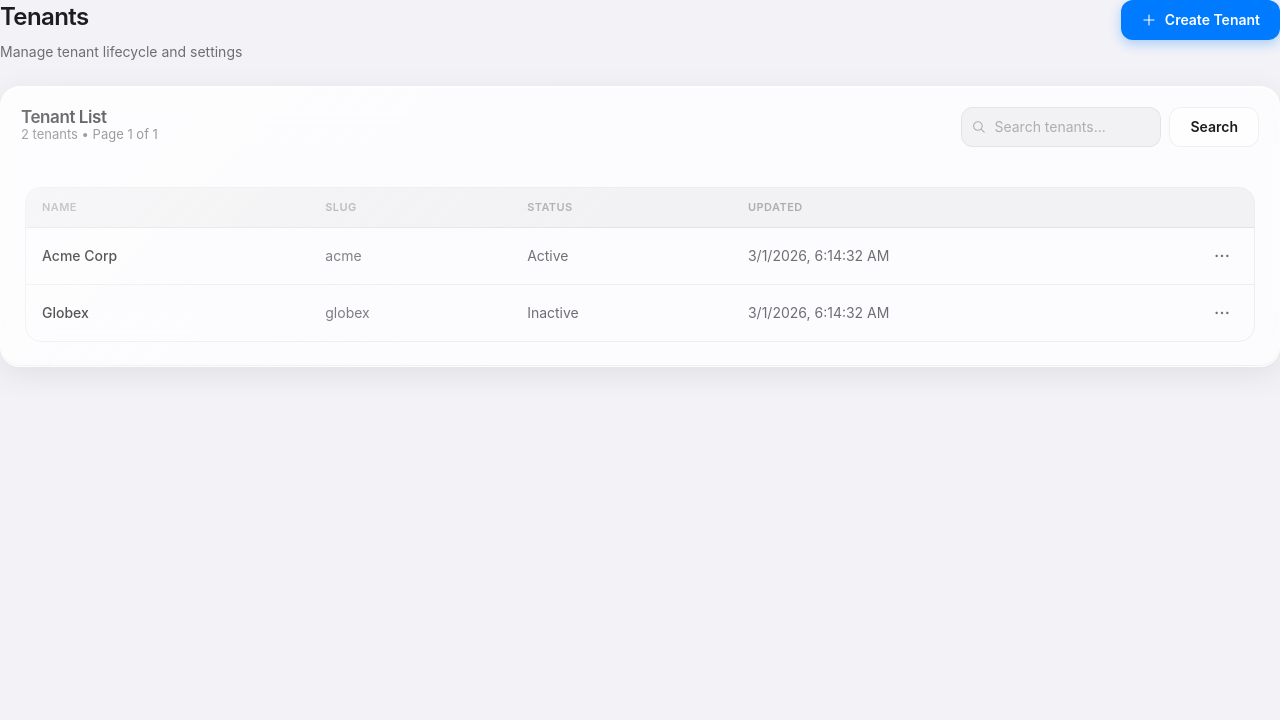
Test case: Tenants Page › opens delete confirmation dialog when clicking Delete in dropdown
The image size is (1280, 720).
// Open dropdown and click Delete
Click the button named "open menu" in the row of "Acme Corp": click(1222, 256) [1206,240,1238,272]
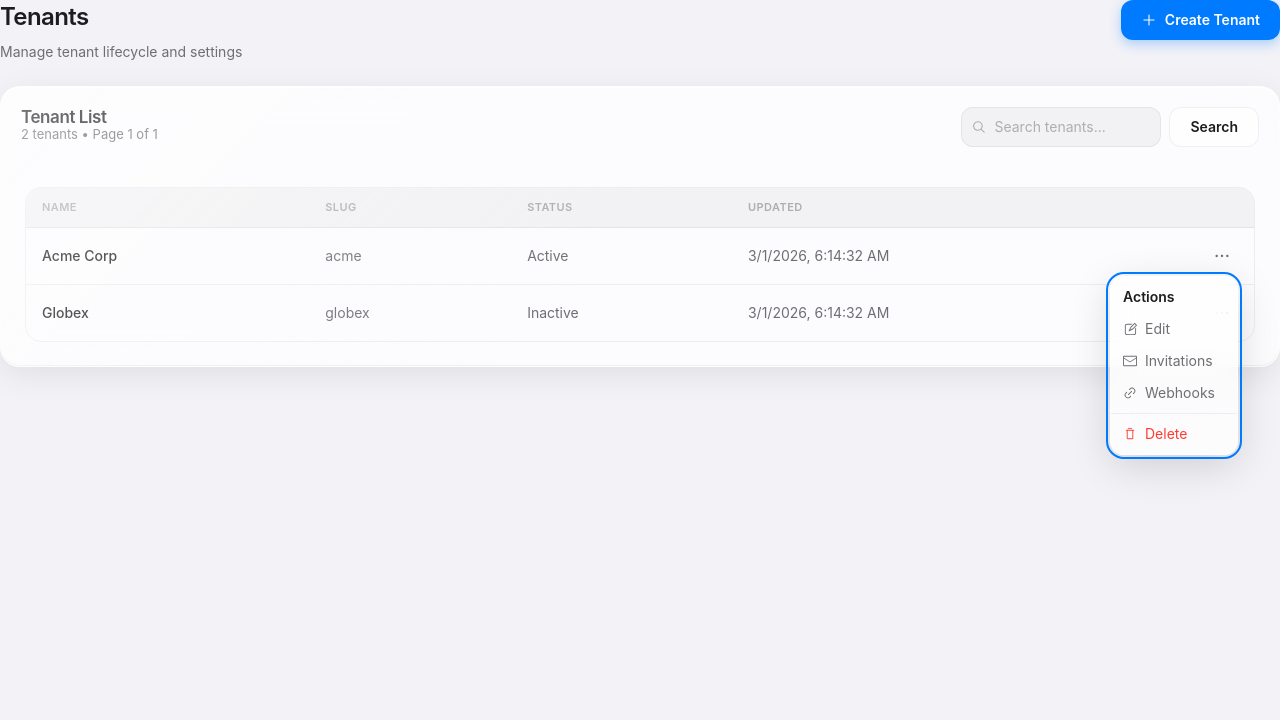
Click the menu item "Delete": click(1155, 434) [1123,425,1187,442]
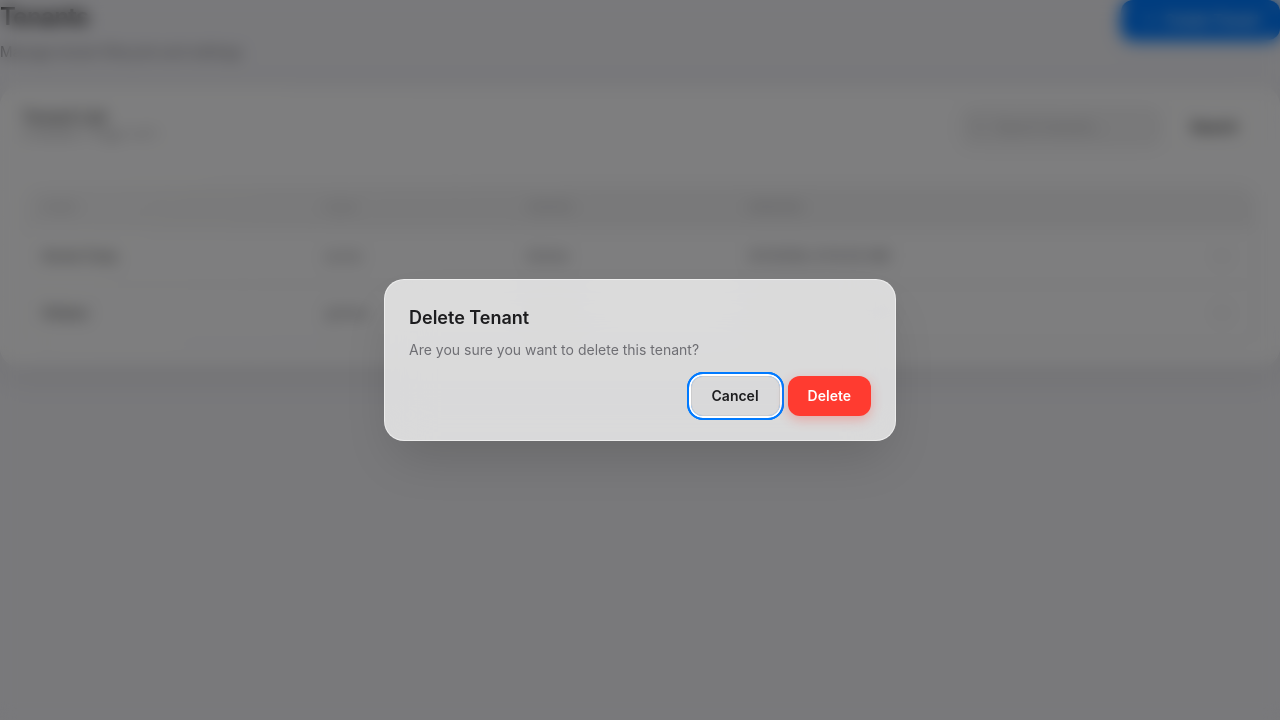
Expected: the heading with test id "confirm-dialog-title" reads "Delete Tenant", [409,307,529,328]
Expected: the text "Are you sure you want to delete this tenant?" is shown, [409,341,699,358]
